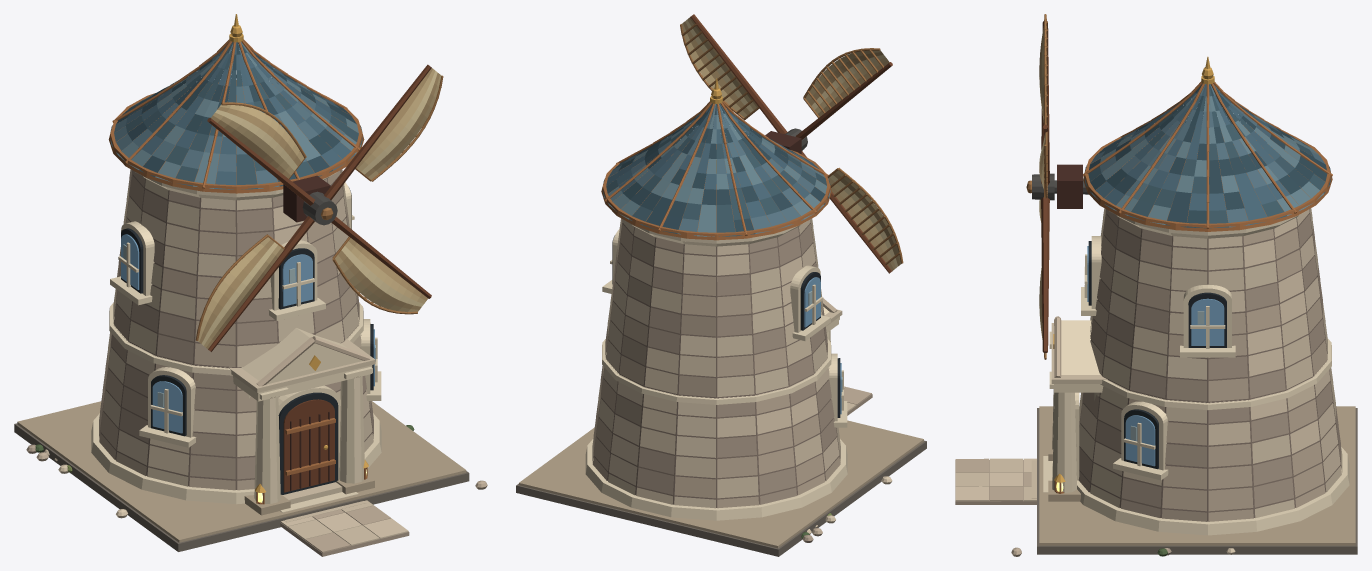
Rendered from windmill-nivel-4.glb.
The picture shows the model from 3 angles, left to right: view 1: azimuth 30°, elevation 25°; view 2: azimuth 150°, elevation 25°; view 3: azimuth 270°, elevation 25°; orthographic projection. The views are drawn at different scales.
Visible parts, largest first — view 1: Moinho de vento 04 #e6d7ba, Moinho de vento 04 #ae9d8b, Moinho de vento 04 #b4a38a, Moinho de vento 04 #d3c3a9, Moinho de vento 04 #c1af99, Moinho de vento 04 #dac9af, Moinho de vento 04 #a76e42, Moinho de vento 04 #87776b, Pás do moinho #cfb788.003, Pás do moinho #b69b70.002, Moinho de vento 04 #3f5a65, Pás do moinho #70432c.003 (+12 smaller); view 2: Moinho de vento 04 #dac9af, Moinho de vento 04 #ae9d8b, Moinho de vento 04 #c1af99, Moinho de vento 04 #d3c3a9, Moinho de vento 04 #b4a38a, Moinho de vento 04 #e6d7ba, Moinho de vento 04 #87776b, Moinho de vento 04 #a76e42, Moinho de vento 04 #344d58, Moinho de vento 04 #637f89, Moinho de vento 04 #3f5a65, Moinho de vento 04 #746c62 (+9 smaller); view 3: Moinho de vento 04 #c1af99, Moinho de vento 04 #e6d7ba, Moinho de vento 04 #ae9d8b, Moinho de vento 04 #dac9af, Moinho de vento 04 #d3c3a9, Moinho de vento 04 #b4a38a, Moinho de vento 04 #87776b, Moinho de vento 04 #a76e42, Moinho de vento 04 #344d58, Moinho de vento 04 #486574, Moinho de vento 04 #637f89, Moinho de vento 04 #746c62 (+8 smaller).
Boxes of the visible parts, box(x1,y1,x2,y2) form: Moinho de vento 04 #e6d7ba: box(91, 172, 381, 512); Moinho de vento 04 #ae9d8b: box(26, 169, 409, 556); Moinho de vento 04 #b4a38a: box(17, 401, 466, 542); Moinho de vento 04 #d3c3a9: box(54, 179, 379, 545); Moinho de vento 04 #c1af99: box(36, 169, 487, 552); Moinho de vento 04 #dac9af: box(44, 184, 408, 538); Moinho de vento 04 #a76e42: box(108, 39, 367, 504); Moinho de vento 04 #87776b: box(99, 170, 372, 489); Pás do moinho #cfb788.003: box(198, 69, 441, 347); Pás do moinho #b69b70.002: box(199, 68, 439, 348); Moinho de vento 04 #3f5a65: box(122, 42, 362, 189); Pás do moinho #70432c.003: box(207, 64, 431, 351); Moinho de vento 04 #dac9af: box(598, 218, 892, 534); Moinho de vento 04 #ae9d8b: box(593, 219, 872, 542); Moinho de vento 04 #c1af99: box(592, 224, 871, 536); Moinho de vento 04 #d3c3a9: box(592, 218, 856, 527); Moinho de vento 04 #b4a38a: box(519, 420, 923, 548); Moinho de vento 04 #e6d7ba: box(585, 221, 847, 520); Moinho de vento 04 #87776b: box(593, 219, 839, 507); Moinho de vento 04 #a76e42: box(601, 101, 831, 240); Moinho de vento 04 #344d58: box(618, 103, 828, 236); Moinho de vento 04 #637f89: box(604, 104, 830, 236); Moinho de vento 04 #3f5a65: box(602, 106, 830, 236); Moinho de vento 04 #746c62: box(516, 440, 926, 556); Moinho de vento 04 #c1af99: box(955, 209, 1327, 556); Moinho de vento 04 #e6d7ba: box(1043, 211, 1349, 535); Moinho de vento 04 #ae9d8b: box(955, 209, 1340, 555); Moinho de vento 04 #dac9af: box(955, 208, 1342, 554); Moinho de vento 04 #d3c3a9: box(955, 240, 1341, 518); Moinho de vento 04 #b4a38a: box(1039, 406, 1355, 545); Moinho de vento 04 #87776b: box(1079, 209, 1341, 521); Moinho de vento 04 #a76e42: box(1054, 81, 1332, 493); Moinho de vento 04 #344d58: box(1084, 84, 1331, 228); Moinho de vento 04 #486574: box(1092, 84, 1290, 224); Moinho de vento 04 #637f89: box(1100, 84, 1323, 224); Moinho de vento 04 #746c62: box(1037, 408, 1357, 554).
Size of the model in its own units: 6.03 by 8.11 by 6.89.
